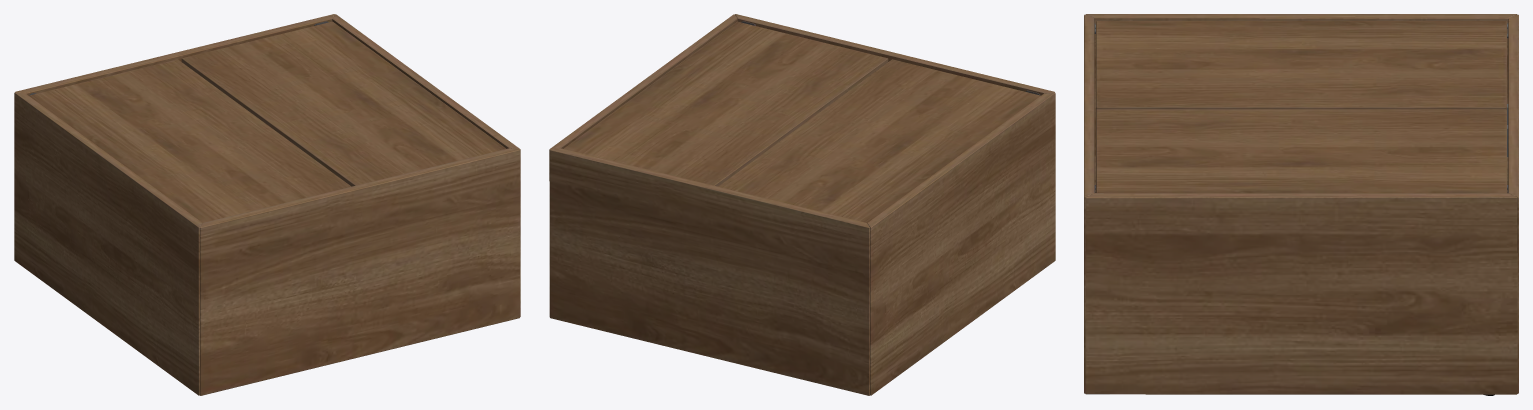
3 views of the same model, side by side, from view 1: azimuth 30°, elevation 25°; view 2: azimuth 150°, elevation 25°; view 3: azimuth 270°, elevation 25° (orthographic). The views are drawn at different scales.
Visible parts, largest first — view 1: ASY_ART_20574587_S01_NV01; view 2: ASY_ART_20574587_S01_NV01; view 3: ASY_ART_20574587_S01_NV01.
Part boxes in pixels (x1=…): ASY_ART_20574587_S01_NV01: x1=14, y1=14, x2=520, y2=395; ASY_ART_20574587_S01_NV01: x1=549, y1=14, x2=1055, y2=395; ASY_ART_20574587_S01_NV01: x1=1084, y1=14, x2=1518, y2=395.
Bounding box in the file's own units: 0.7 × 0.3671 × 0.7.
1 material, 1 textured.
